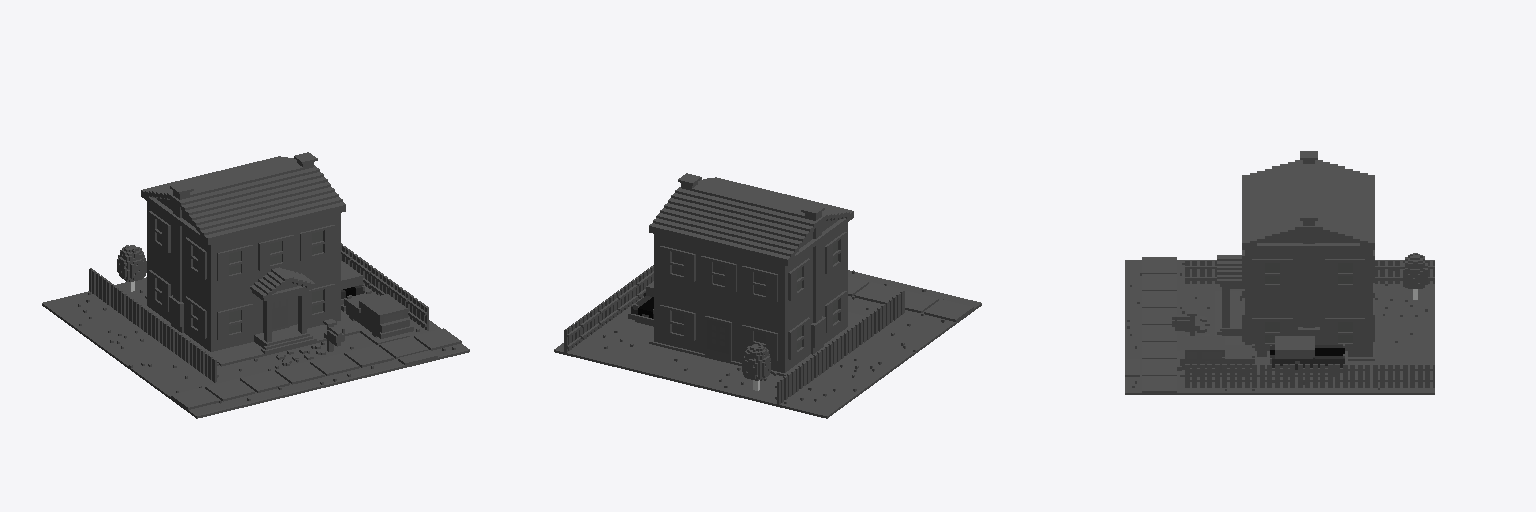
3 renders of one model, left to right at view 1: azimuth 30°, elevation 25°; view 2: azimuth 150°, elevation 25°; view 3: azimuth 270°, elevation 25°, orthographic.
Size of the model in its own units: 126 by 64 by 124.
1 materials, 1 textured.